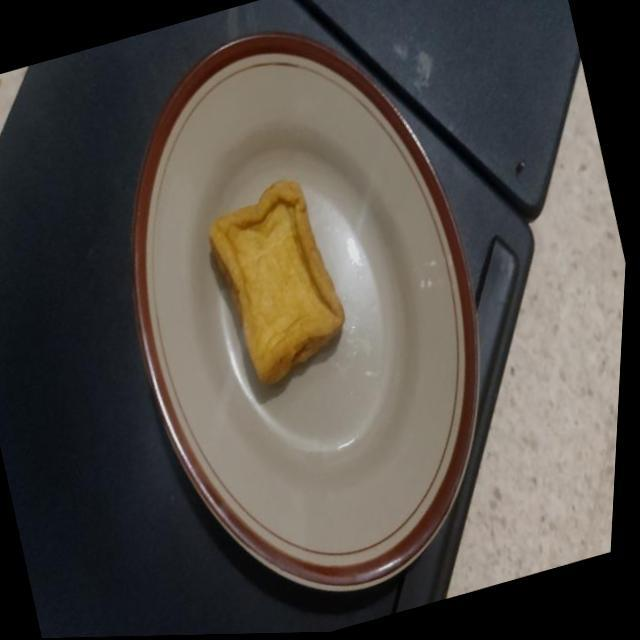tahu_goreng: (209, 180, 344, 384)
